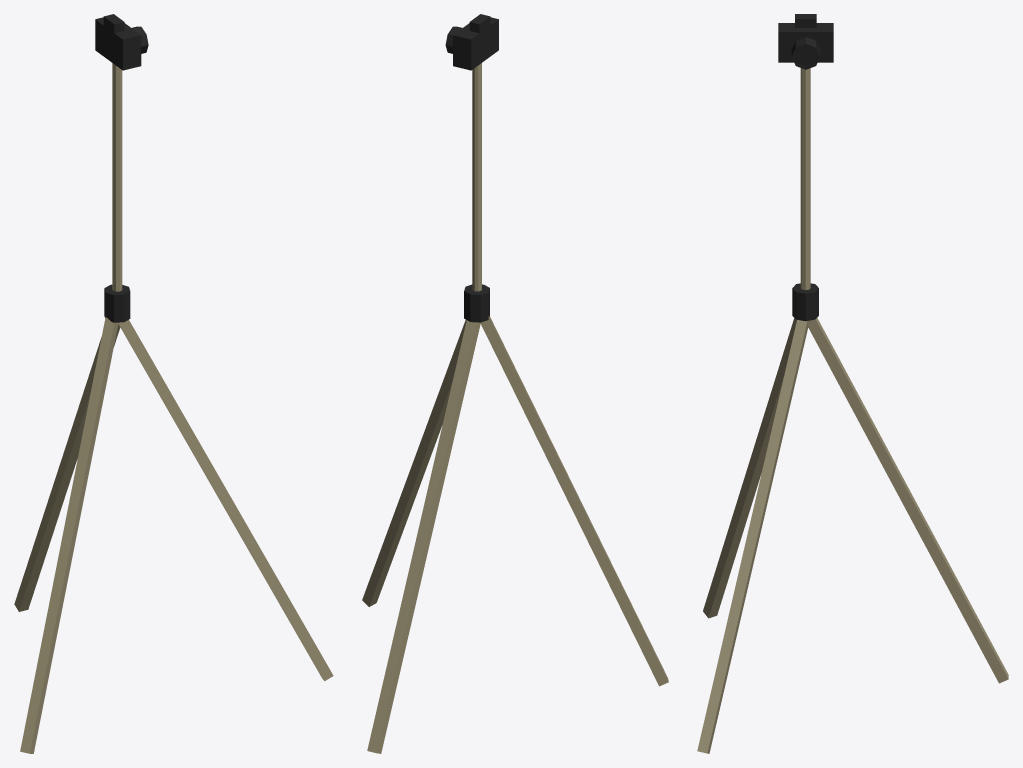
The model's file is CameraTripod_1.fbx.
3 views of the same model, side by side, from view 1: azimuth 30°, elevation 25°; view 2: azimuth 150°, elevation 25°; view 3: azimuth 270°, elevation 25° (orthographic).
Visible parts, largest first — view 1: pCube6, pCube4, pCube5, pCylinder5, pCube7, pCylinder4; view 2: pCube5, pCube6, pCube4, pCylinder5, pCube7, pCylinder4; view 3: pCube4, pCube5, pCube6, pCube7, pCylinder5, pCylinder4.
Boxes of the visible parts, left/top/right/bottom form: pCube6: left=20, top=317, right=118, bottom=753; pCube4: left=118, top=320, right=333, bottom=681; pCube5: left=14, top=324, right=120, bottom=611; pCylinder5: left=112, top=63, right=122, bottom=291; pCube7: left=95, top=14, right=148, bottom=70; pCylinder4: left=104, top=284, right=130, bottom=322; pCube5: left=367, top=320, right=480, bottom=753; pCube6: left=480, top=316, right=668, bottom=686; pCube4: left=362, top=320, right=466, bottom=606; pCylinder5: left=472, top=63, right=481, bottom=291; pCube7: left=445, top=14, right=498, bottom=70; pCylinder4: left=464, top=284, right=489, bottom=322; pCube4: left=697, top=320, right=808, bottom=753; pCube5: left=808, top=318, right=1008, bottom=683; pCube6: left=703, top=318, right=796, bottom=618; pCube7: left=778, top=14, right=833, bottom=69; pCylinder5: left=800, top=68, right=810, bottom=290; pCylinder4: left=792, top=283, right=818, bottom=321.
Size of the model in its own units: 0.00773 by 0.016 by 0.00677.
